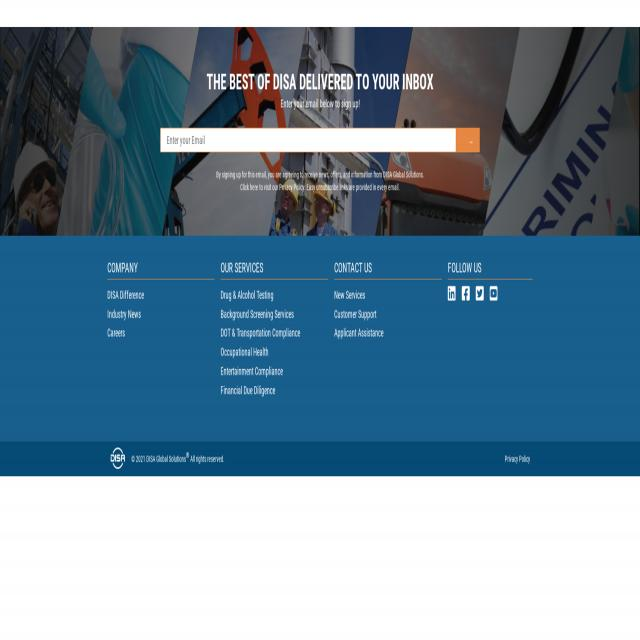button: (456, 128, 480, 152), (110, 447, 125, 470), (448, 284, 456, 304), (462, 284, 470, 304), (476, 284, 484, 304), (490, 284, 498, 304)
field: (160, 128, 480, 152)
